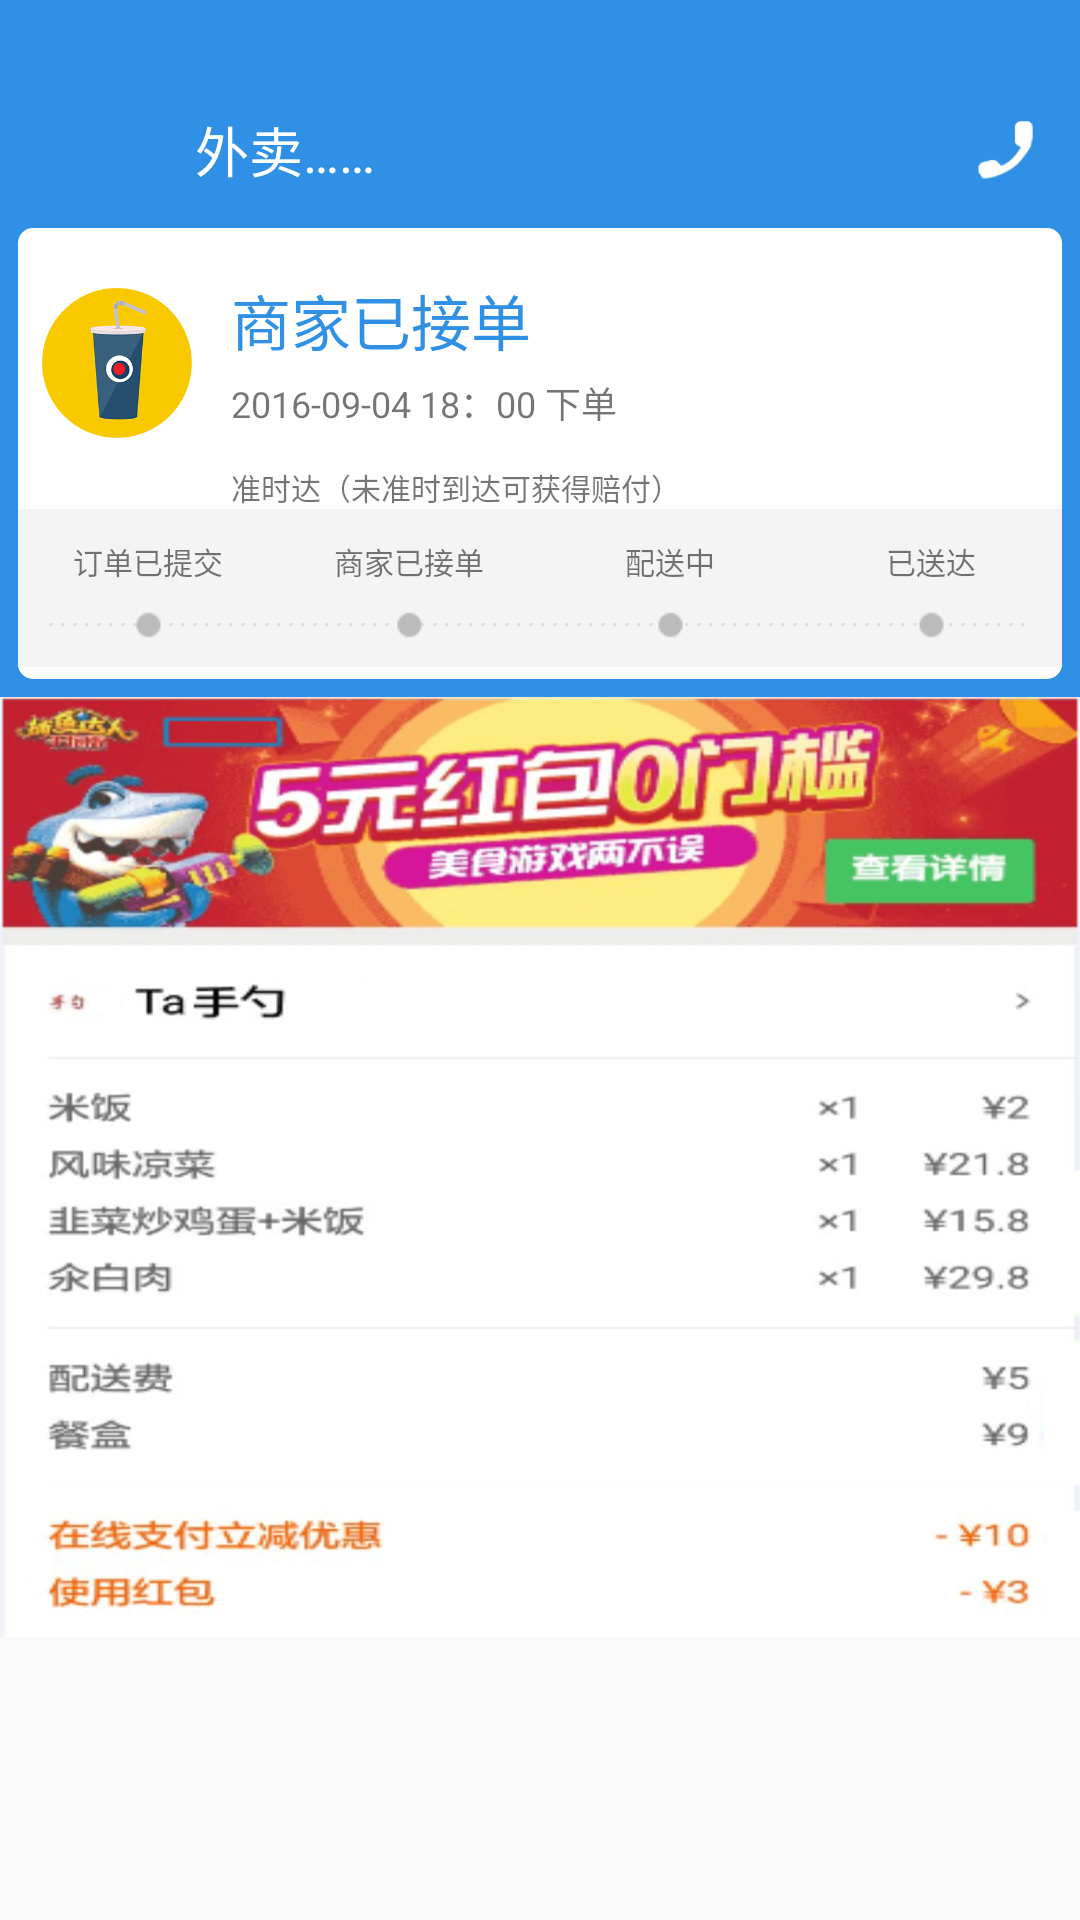

Locate icon controls on the screen. Image size 1080px x 1920px, boxes as Rect(x1, y1, x2, y2).
order action contact: Rect(978, 121, 1033, 179)
